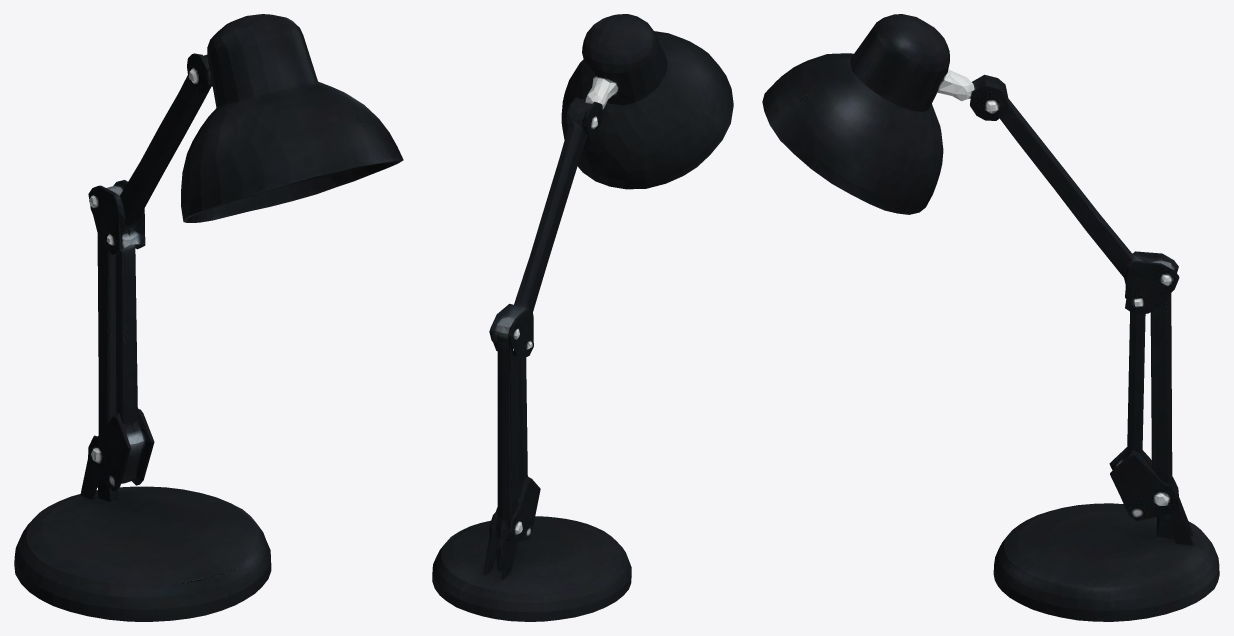
File: lamp-artist.glb
3 views of the same model, side by side, from view 1: azimuth 30°, elevation 25°; view 2: azimuth 150°, elevation 25°; view 3: azimuth 270°, elevation 25° (orthographic). The views are drawn at different scales.
Size of the model in its own units: 0.6936 by 1.91 by 1.42.
1 material, 1 textured.
